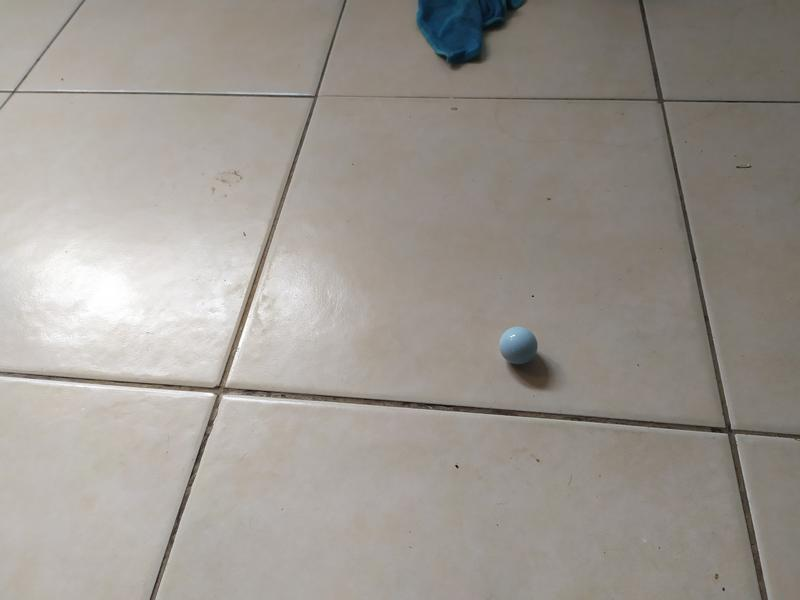Warning: (497, 324, 540, 367)
